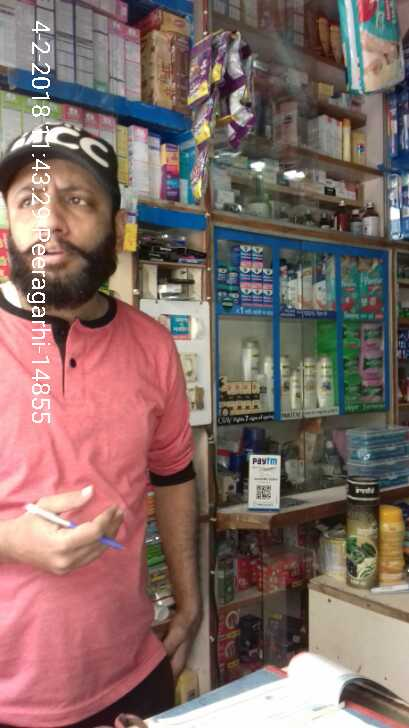vicks: (218, 240, 276, 308)
